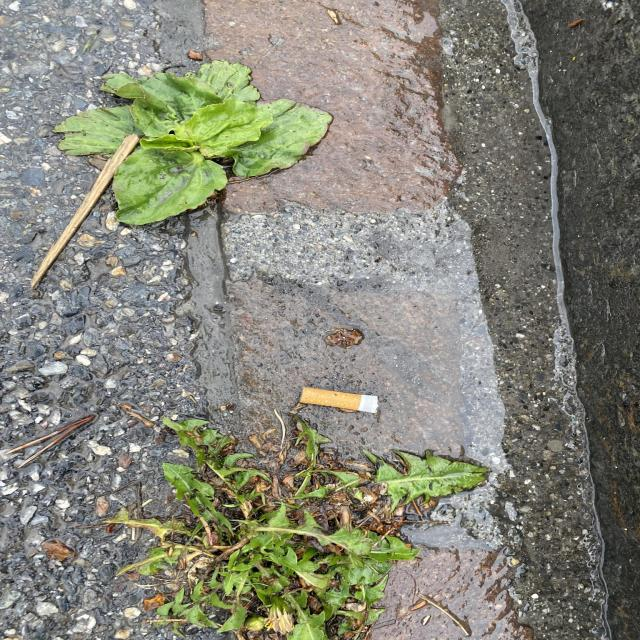other waste: (299, 386, 379, 414)
